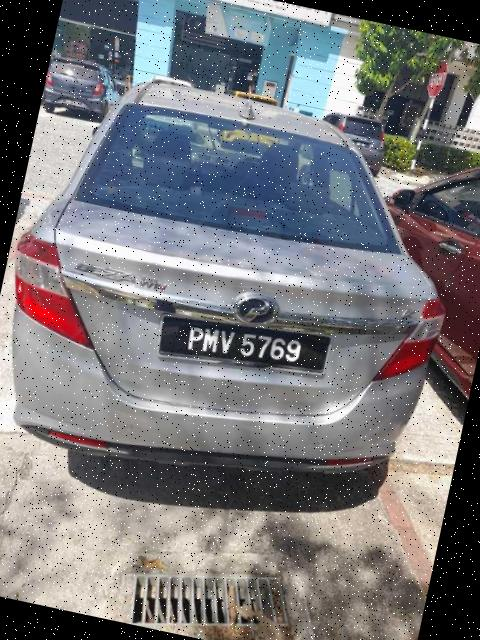License_Plate: (154, 300, 335, 392)
car: (1, 50, 480, 523)
